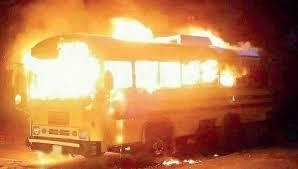fire: (19, 39, 106, 101)
